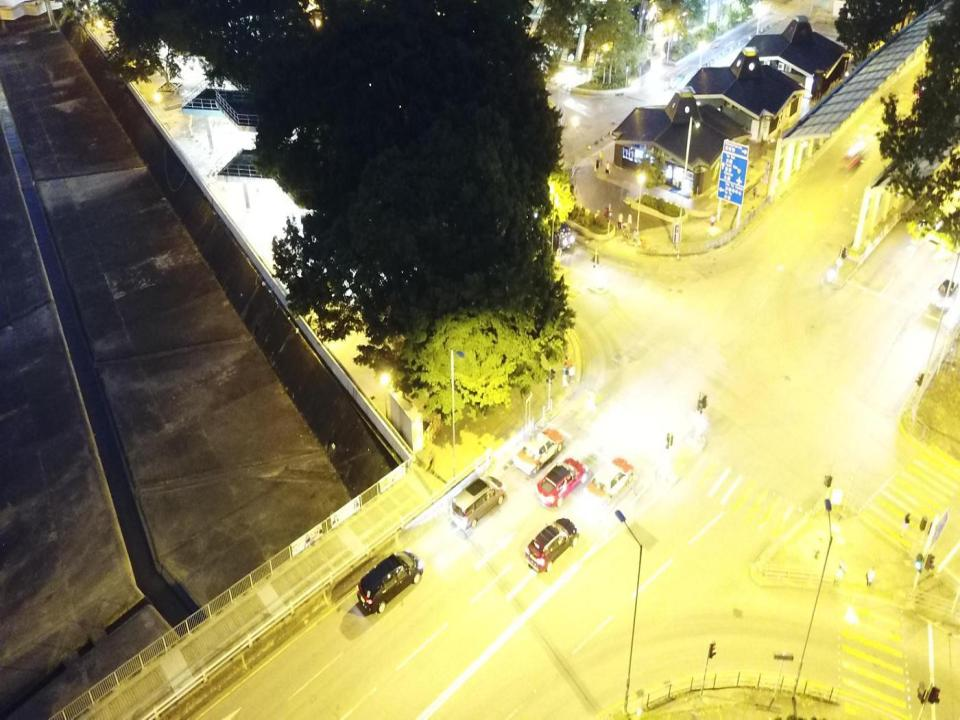car: (356, 549, 424, 613), (450, 475, 508, 531), (524, 518, 578, 574), (534, 457, 589, 508), (582, 458, 634, 510), (512, 428, 565, 476), (537, 210, 576, 252)
